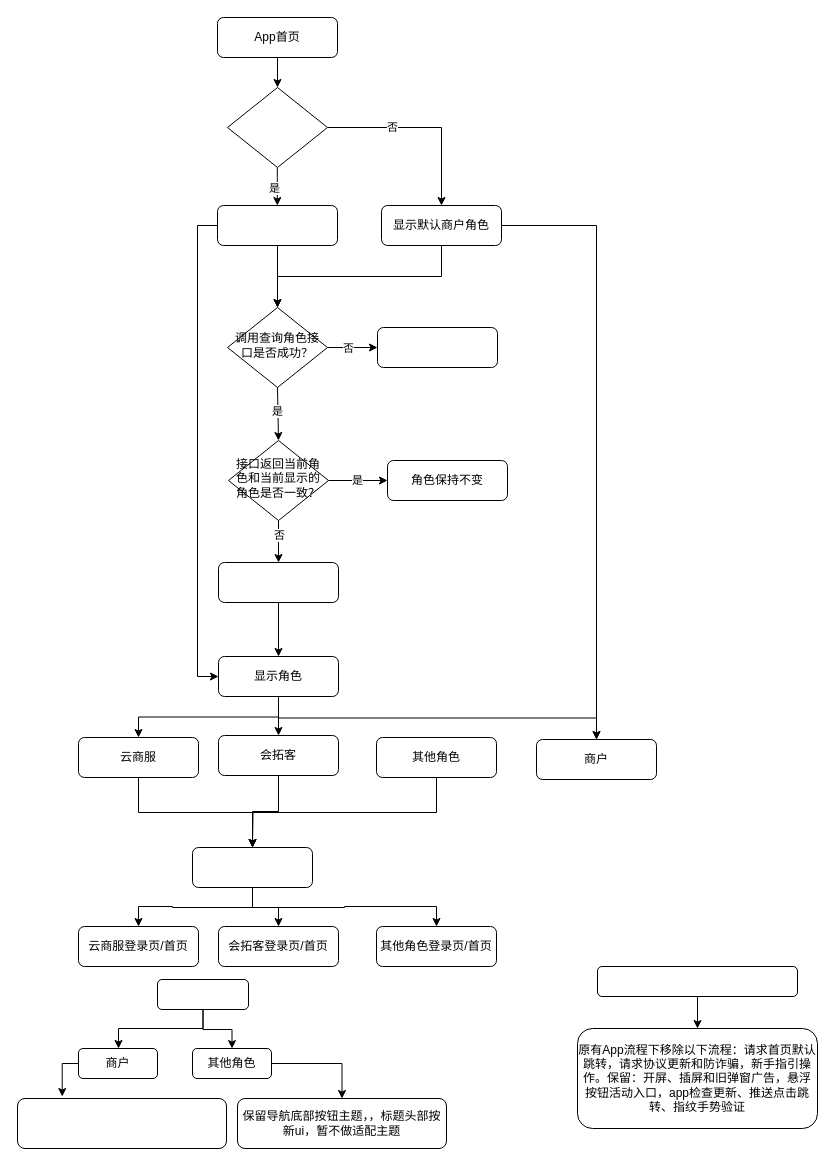
Some shapes in this 835 by 1166 pixel diagram are drawn without their labels. Here are the shapes that lost their labels. From the top down, the box of each, then its label:
(226, 86, 328, 168): 是否有角色缓存？
(216, 204, 338, 246): 显示缓存角色
(376, 326, 498, 368): Toast提示
(218, 562, 338, 602): 切换至其他角色
(192, 846, 312, 888): 统一账号或新旧联合登录
(156, 978, 248, 1010): 主题适配
(596, 966, 798, 996): 除商户外角色（会拓客/云商服首页角色流程）
(16, 1098, 226, 1148): 今日交易展示UI优化（透明背景，适应主题），标题头部按新ui，暂不做适配主题
